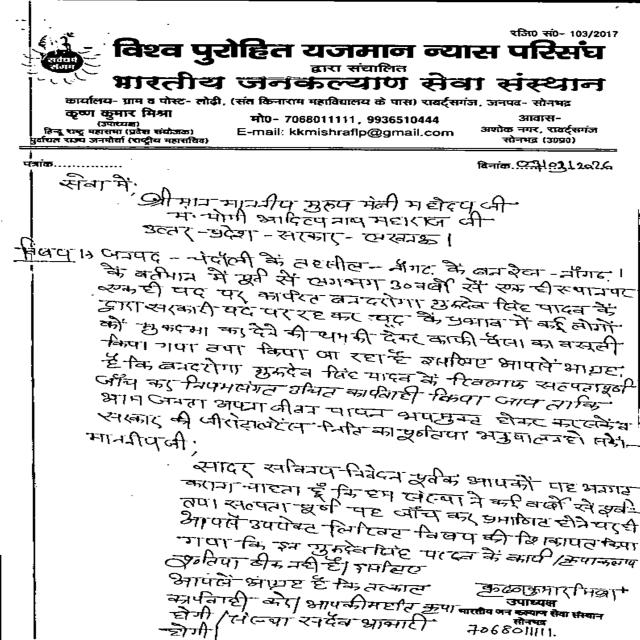letterhead: (31, 22, 631, 150)
